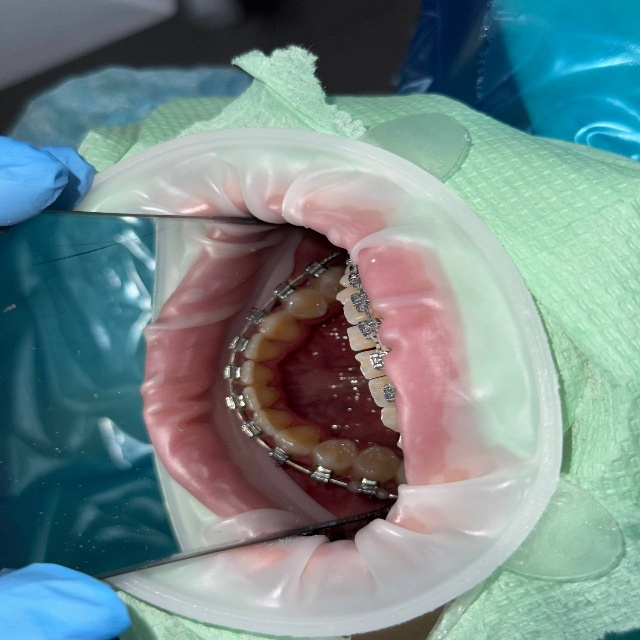plaque: (395, 0, 517, 119), (0, 563, 130, 639), (0, 134, 93, 225), (195, 65, 245, 92)
